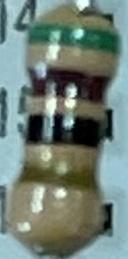Black: (27, 116, 101, 148)
Brown: (32, 70, 111, 100)
Green: (29, 28, 117, 52)
Side-Gold: (18, 165, 97, 190)
